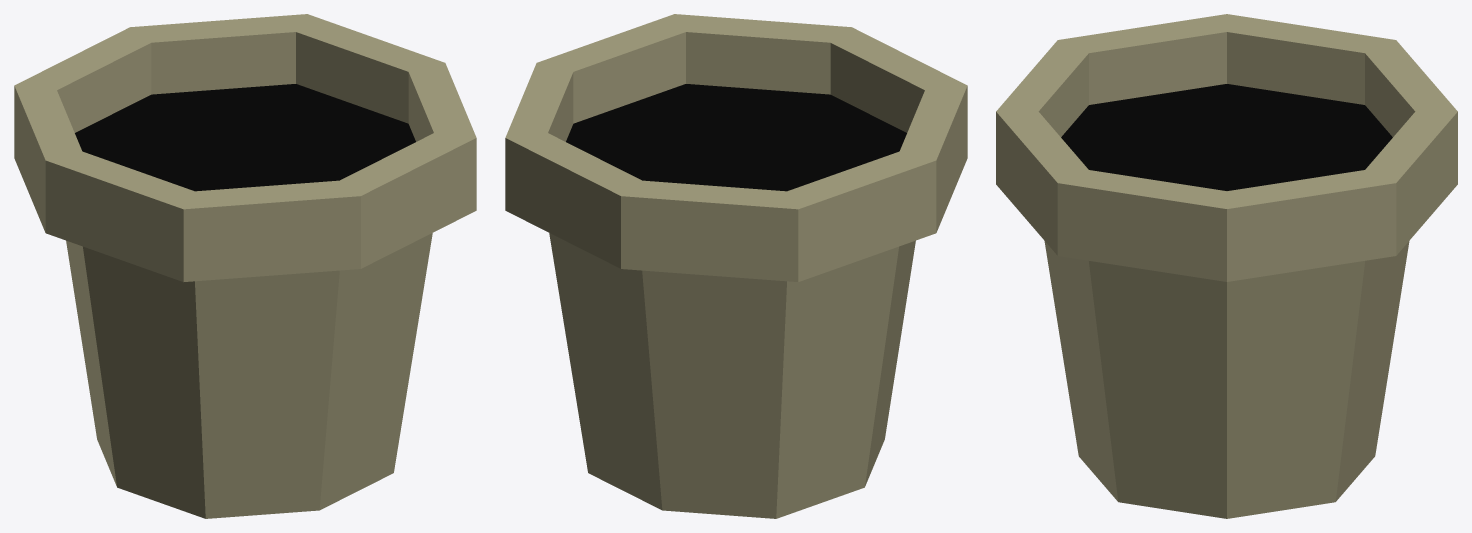
File: Vasija2.fbx
3 views of the same model, side by side, from view 1: azimuth 30°, elevation 25°; view 2: azimuth 150°, elevation 25°; view 3: azimuth 270°, elevation 25° (orthographic).
Parts seen in each view (by area): view 1: Vasija2; view 2: Vasija2; view 3: Vasija2.
Part boxes in pixels (x1,y1,x2,y2): Vasija2: (14,14,476,518); Vasija2: (505,14,967,518); Vasija2: (996,14,1457,518).
Size of the model in its own units: 128 by 106 by 128.
